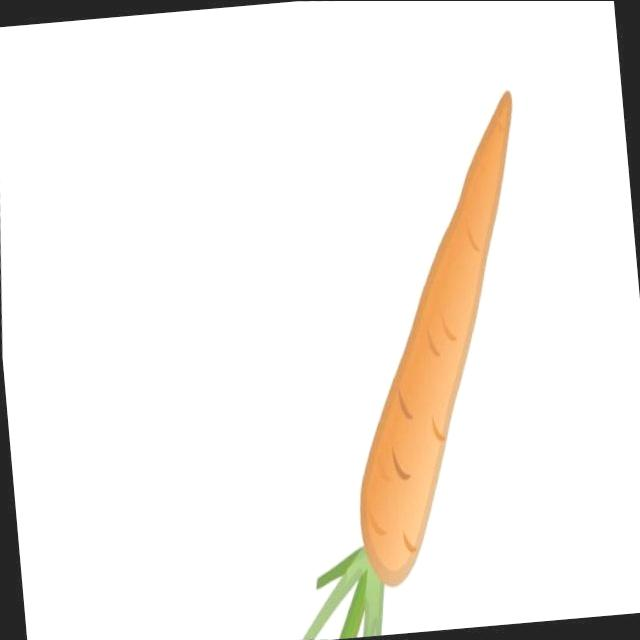carrot: (298, 63, 559, 592)
